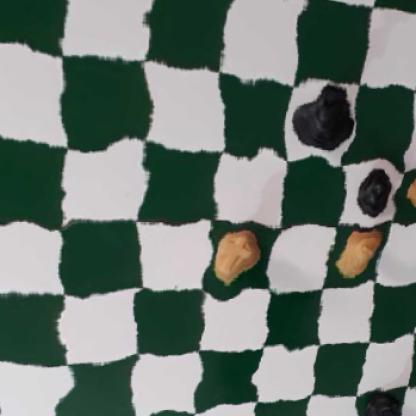black-king: (293, 79, 357, 159)
black-pawn: (351, 169, 399, 217)
black-rook: (353, 388, 407, 416)
white-bishop: (406, 161, 416, 214)
white-king: (329, 221, 390, 280)
white-rook: (208, 222, 265, 280)
